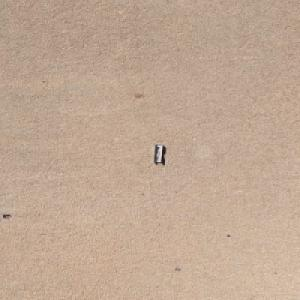ClampPart: (153, 143, 164, 163)
